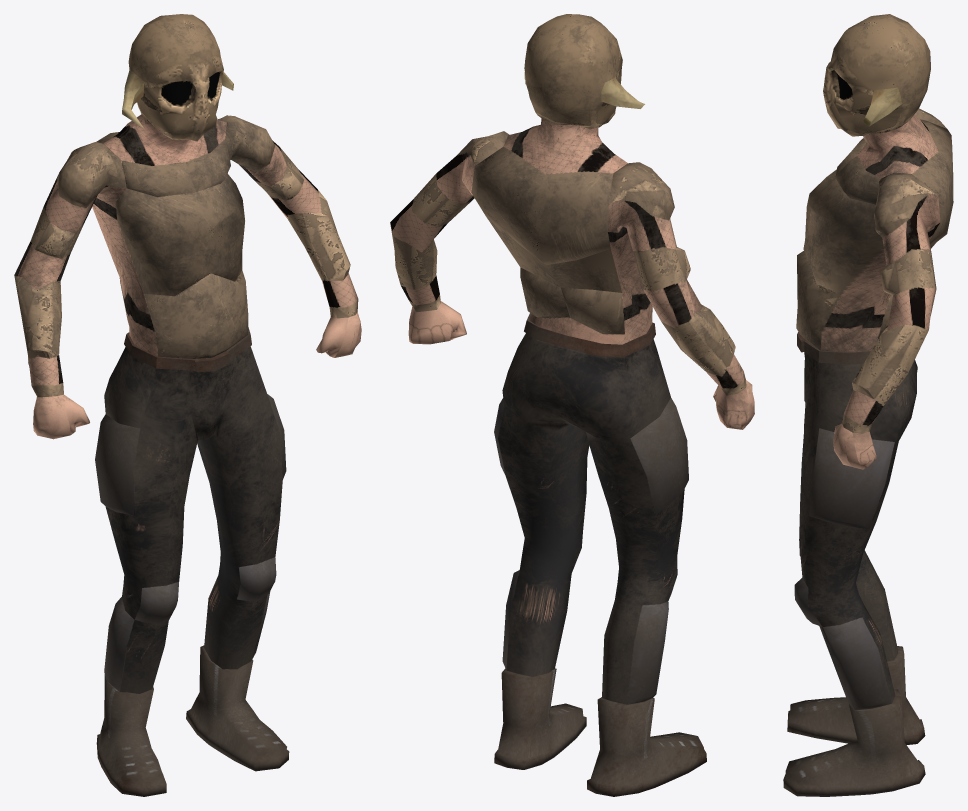
Rendered from Anim_morir_npc1.0013.obj.
3 views of the same model, side by side, from view 1: azimuth 30°, elevation 25°; view 2: azimuth 150°, elevation 25°; view 3: azimuth 270°, elevation 25° (orthographic). The views are drawn at different scales.
Visible parts, largest first — view 1: NPC2; view 2: NPC2; view 3: NPC2.
Boxes of the visible parts, box(x1,y1,x2,y2) form: NPC2: box(14, 14, 361, 796); NPC2: box(390, 14, 754, 796); NPC2: box(783, 14, 953, 796).
Bounding box in the file's own units: 4.44 × 9.45 × 1.96.
